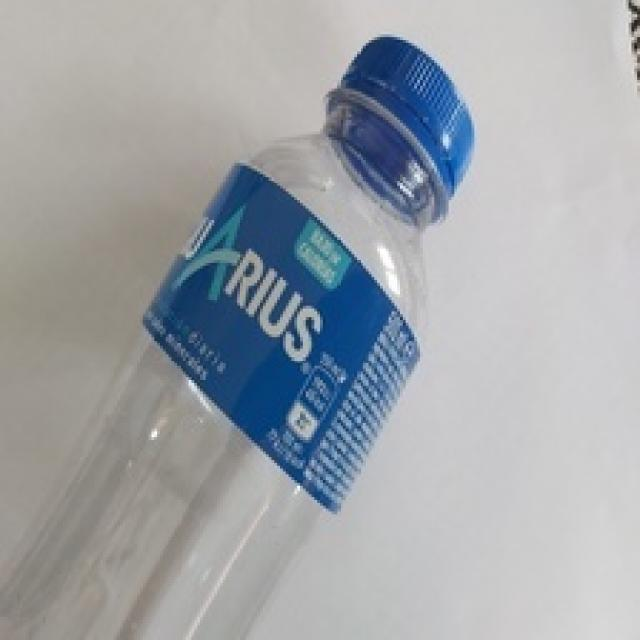Plastic: (0, 32, 483, 640)
